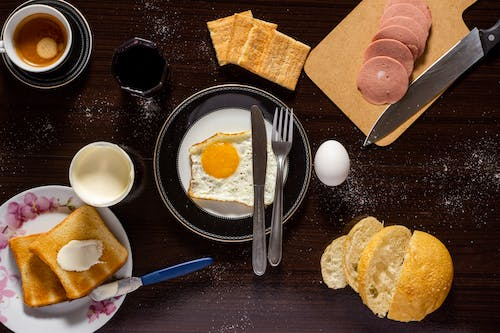knife: (359, 18, 500, 147), (244, 102, 270, 276)
